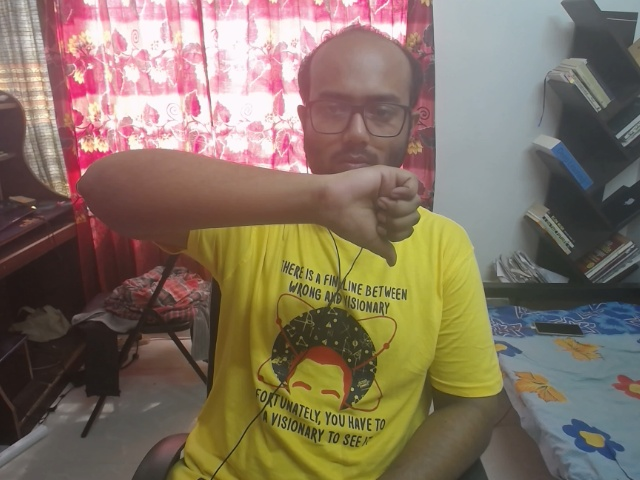nine: (302, 136, 439, 305)
